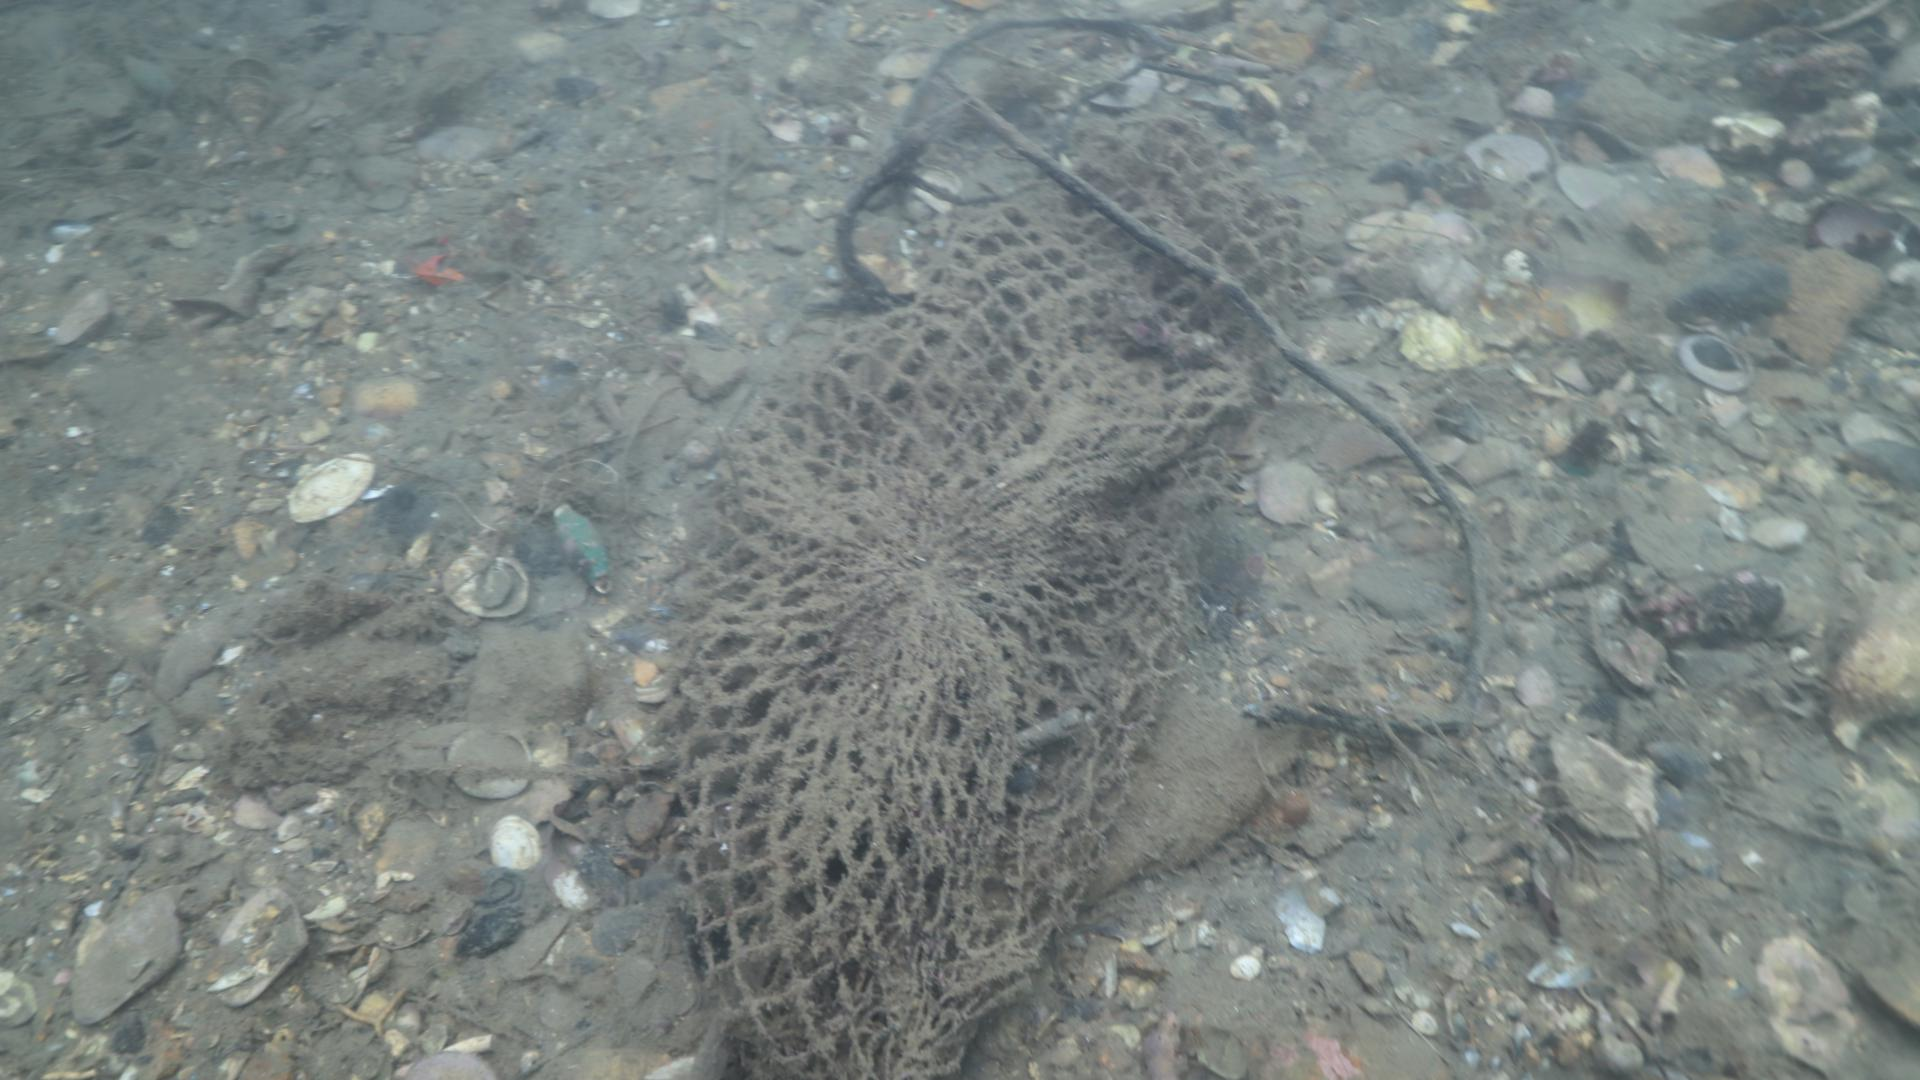fish net: (665, 109, 1313, 1080)
